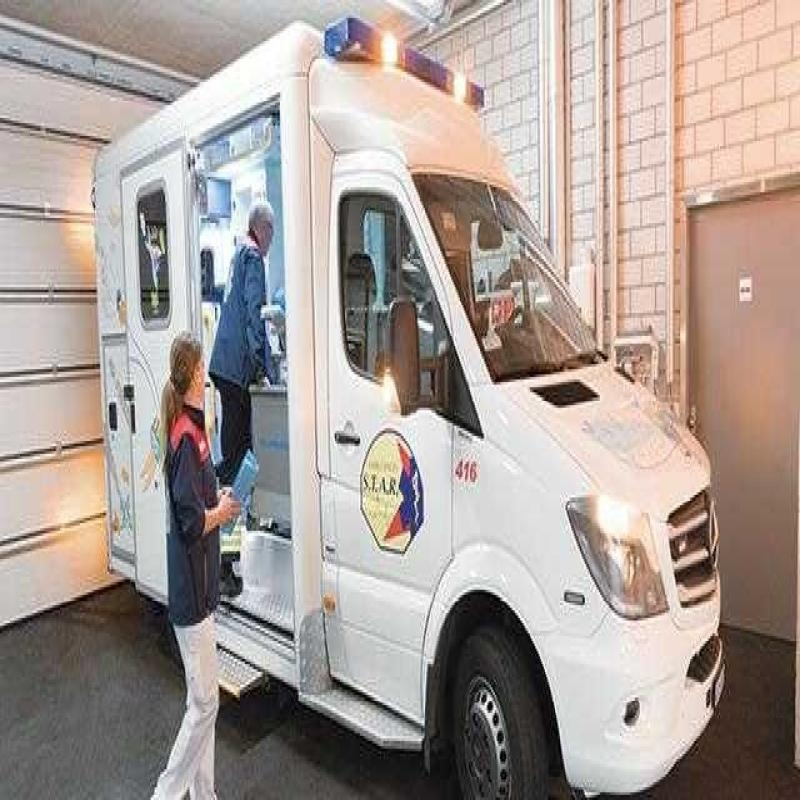AmbulanceSiren: (317, 7, 496, 102)
